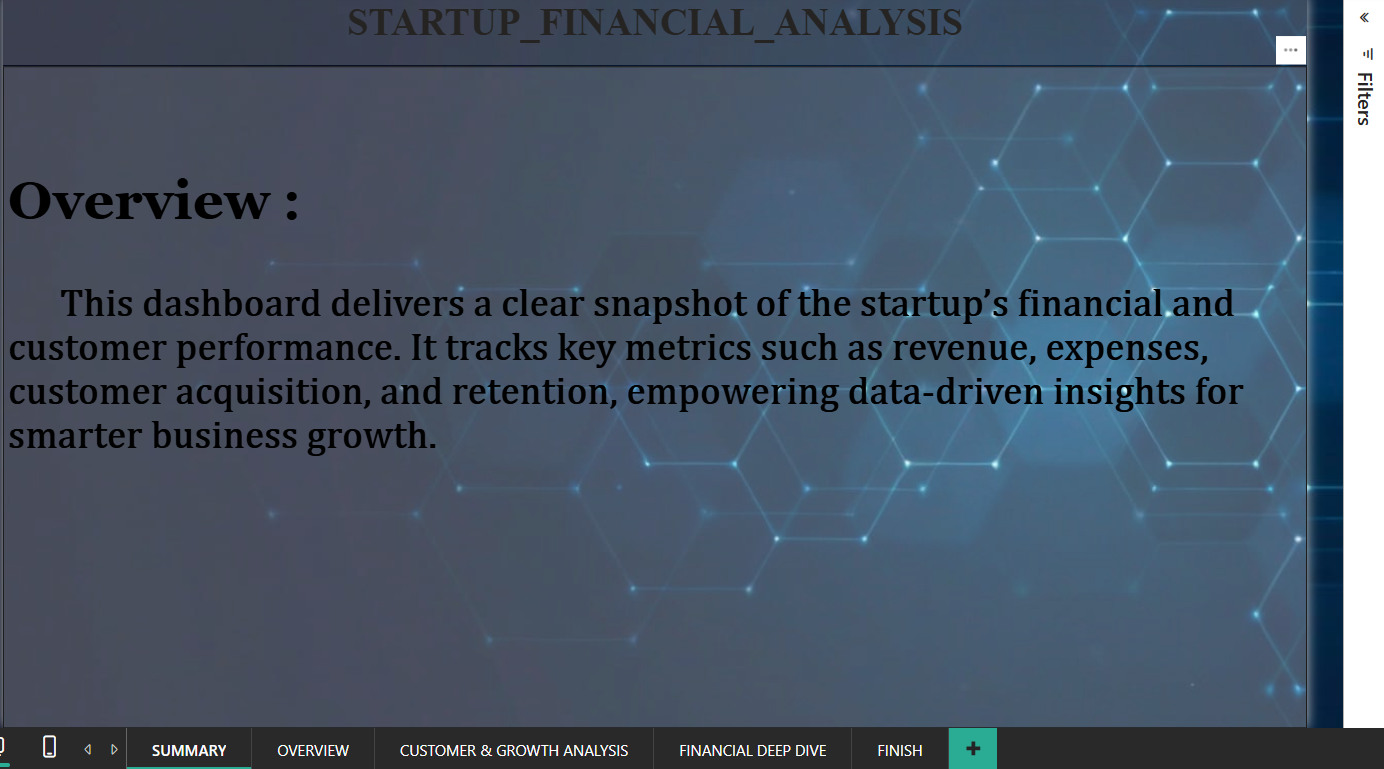

Layout of this report page (visuals, bound fields, positions):
{"tool":"powerbi","page":{"name":"SUMMARY","canvas":[1280,720],"ordinal":0},"visuals":[{"type":"textbox","box":[0,0,1280,68.9],"z":0},{"type":"textbox","box":[0,70,1280,650],"z":1000}]}

Visuals, with their boxes on the page's 1280x720 design canvas (x1, y1, x2, y2). These are canvas units, not pixel positions in the 1384x769 screenshot, which may show the page scaled, cropped or inside an application window:
textbox: Rect(0, 0, 1280, 69)
textbox: Rect(0, 70, 1280, 720)
